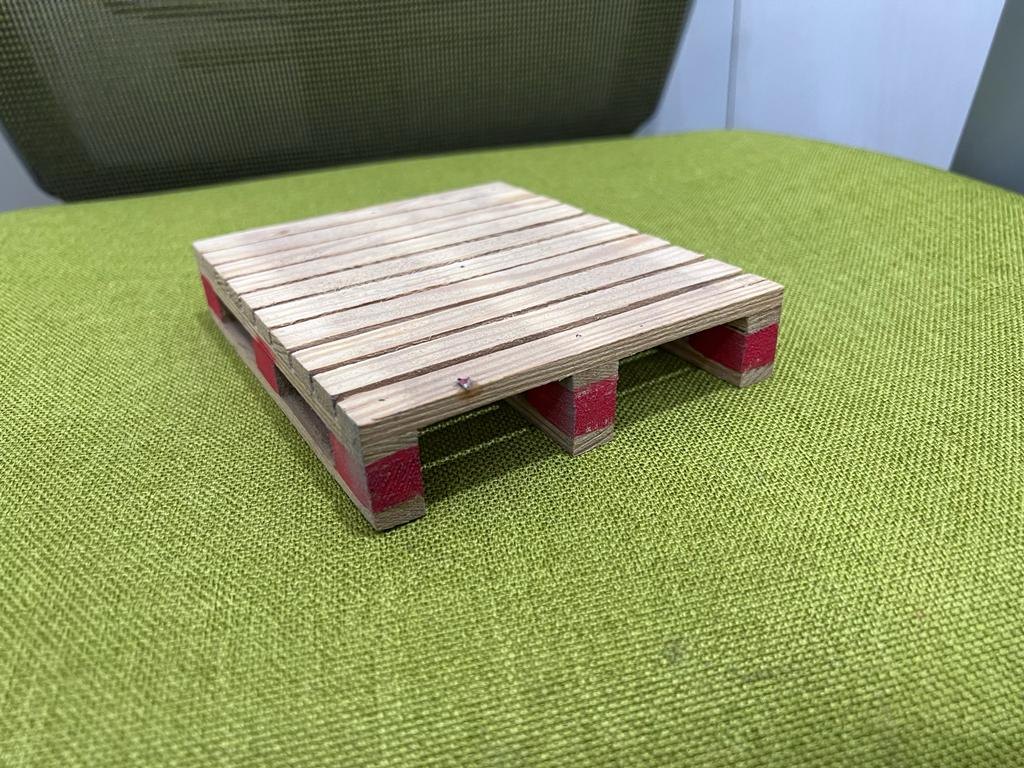pallet: (171, 171, 806, 534)
